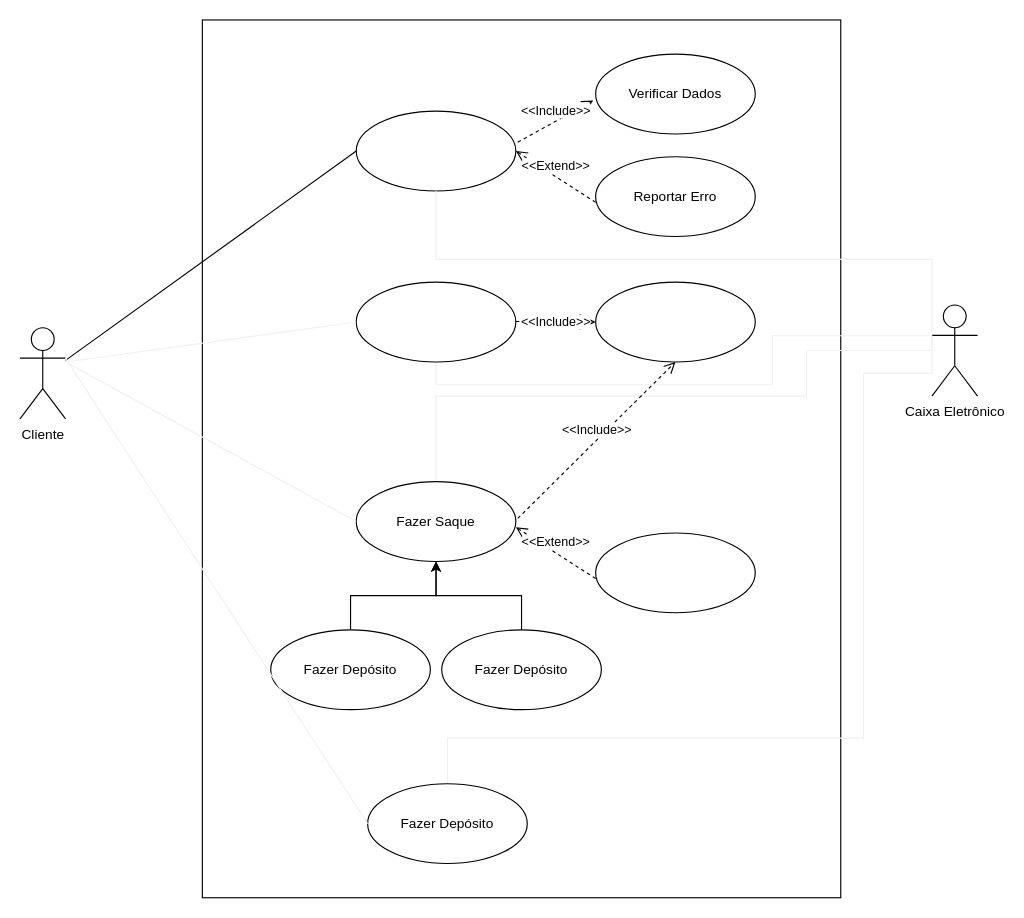
This 1024x918 diagram has some shape labels left out. Each missing label, with the box of its shape:
Aprovar o Saque: (595, 532, 755, 613)
Emissão de Extrato: (355, 281, 516, 362)
Fazer Login: (355, 110, 516, 191)
Verificar Saldo: (595, 281, 755, 362)
